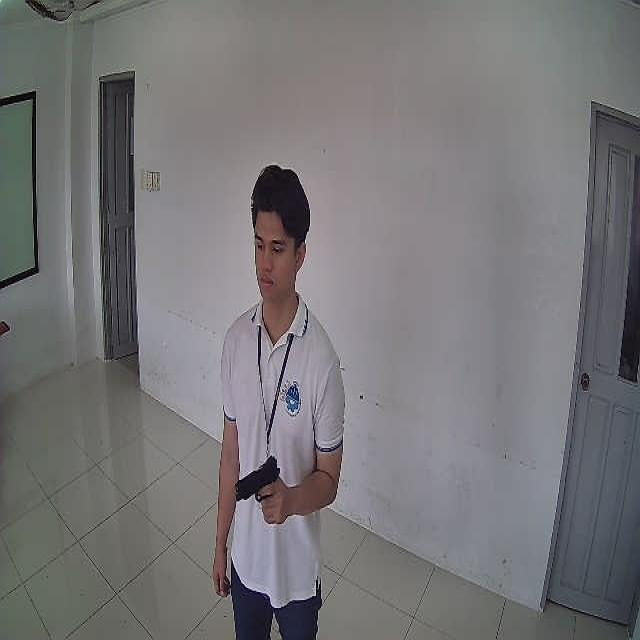pistol: (235, 457, 276, 503)
